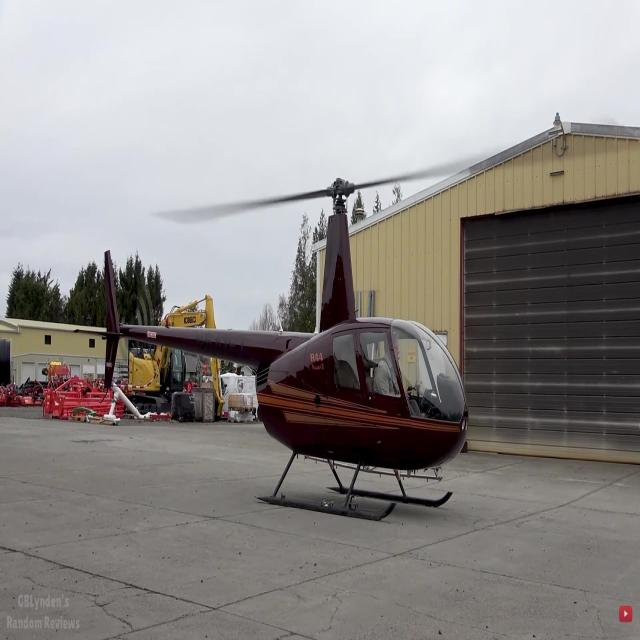CIV_HELO: (71, 176, 471, 527)
